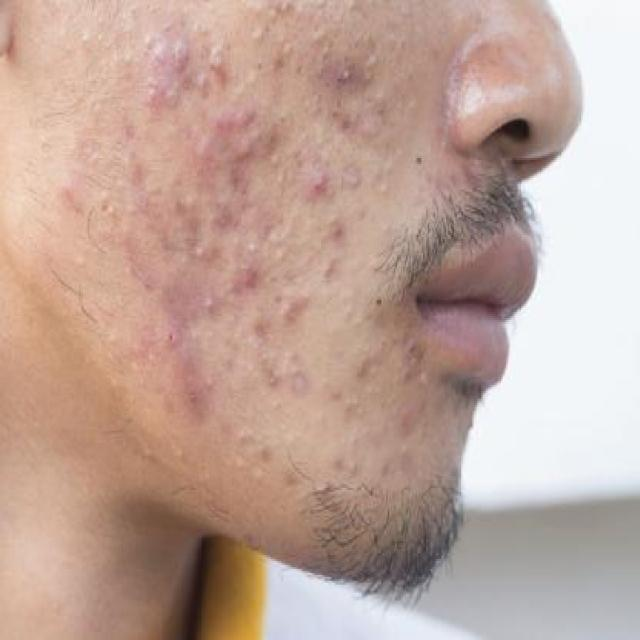Acne: (303, 160, 337, 201), (228, 130, 266, 166), (234, 261, 268, 294), (230, 103, 264, 128), (203, 105, 231, 134), (187, 237, 216, 263), (204, 47, 233, 73), (169, 36, 189, 69), (343, 454, 366, 478), (337, 65, 358, 91)
Blackheads: (410, 146, 432, 174), (364, 294, 389, 315)
Whiteheads: (238, 235, 271, 261), (200, 292, 223, 318)
